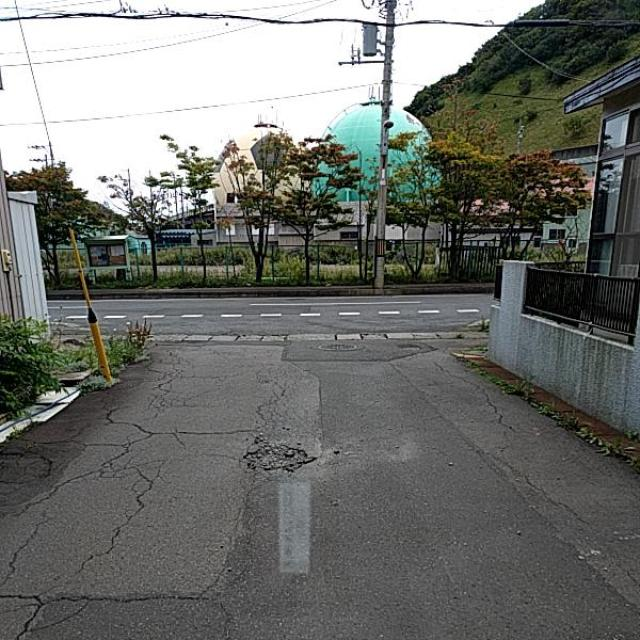Crack: (76, 327, 445, 640)
